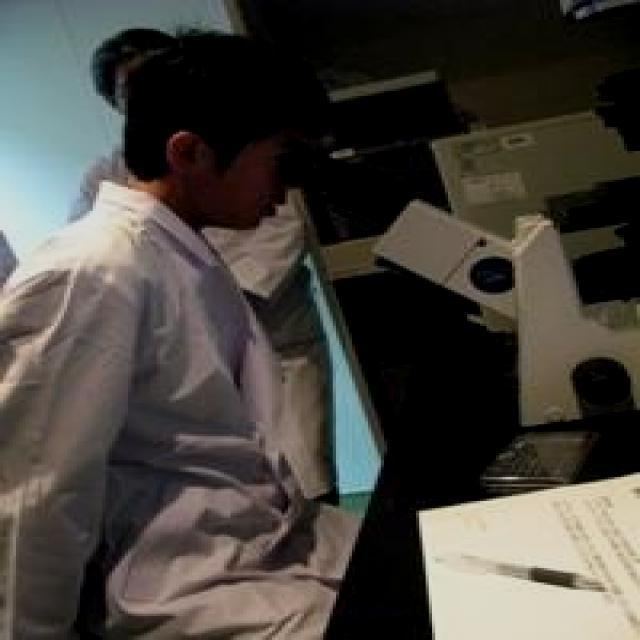no_vest: (2, 176, 345, 640)
